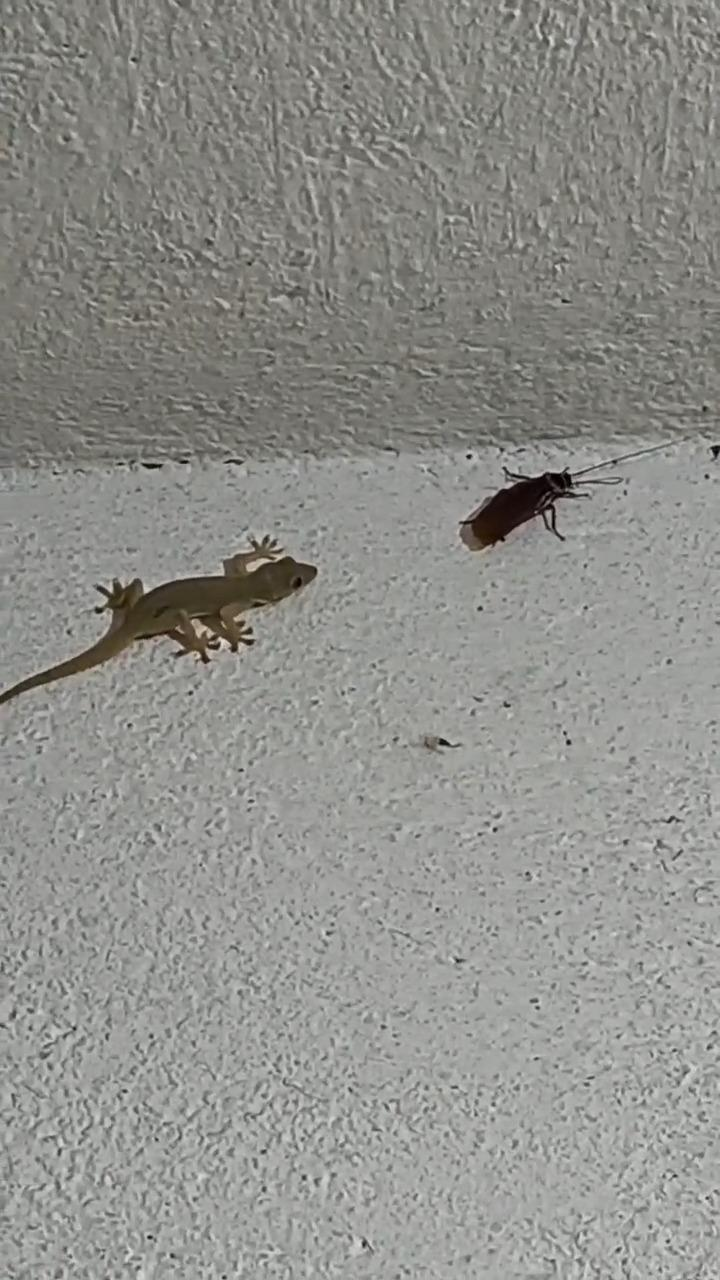cockroach: (451, 453, 637, 558)
lizard: (0, 521, 323, 708)
